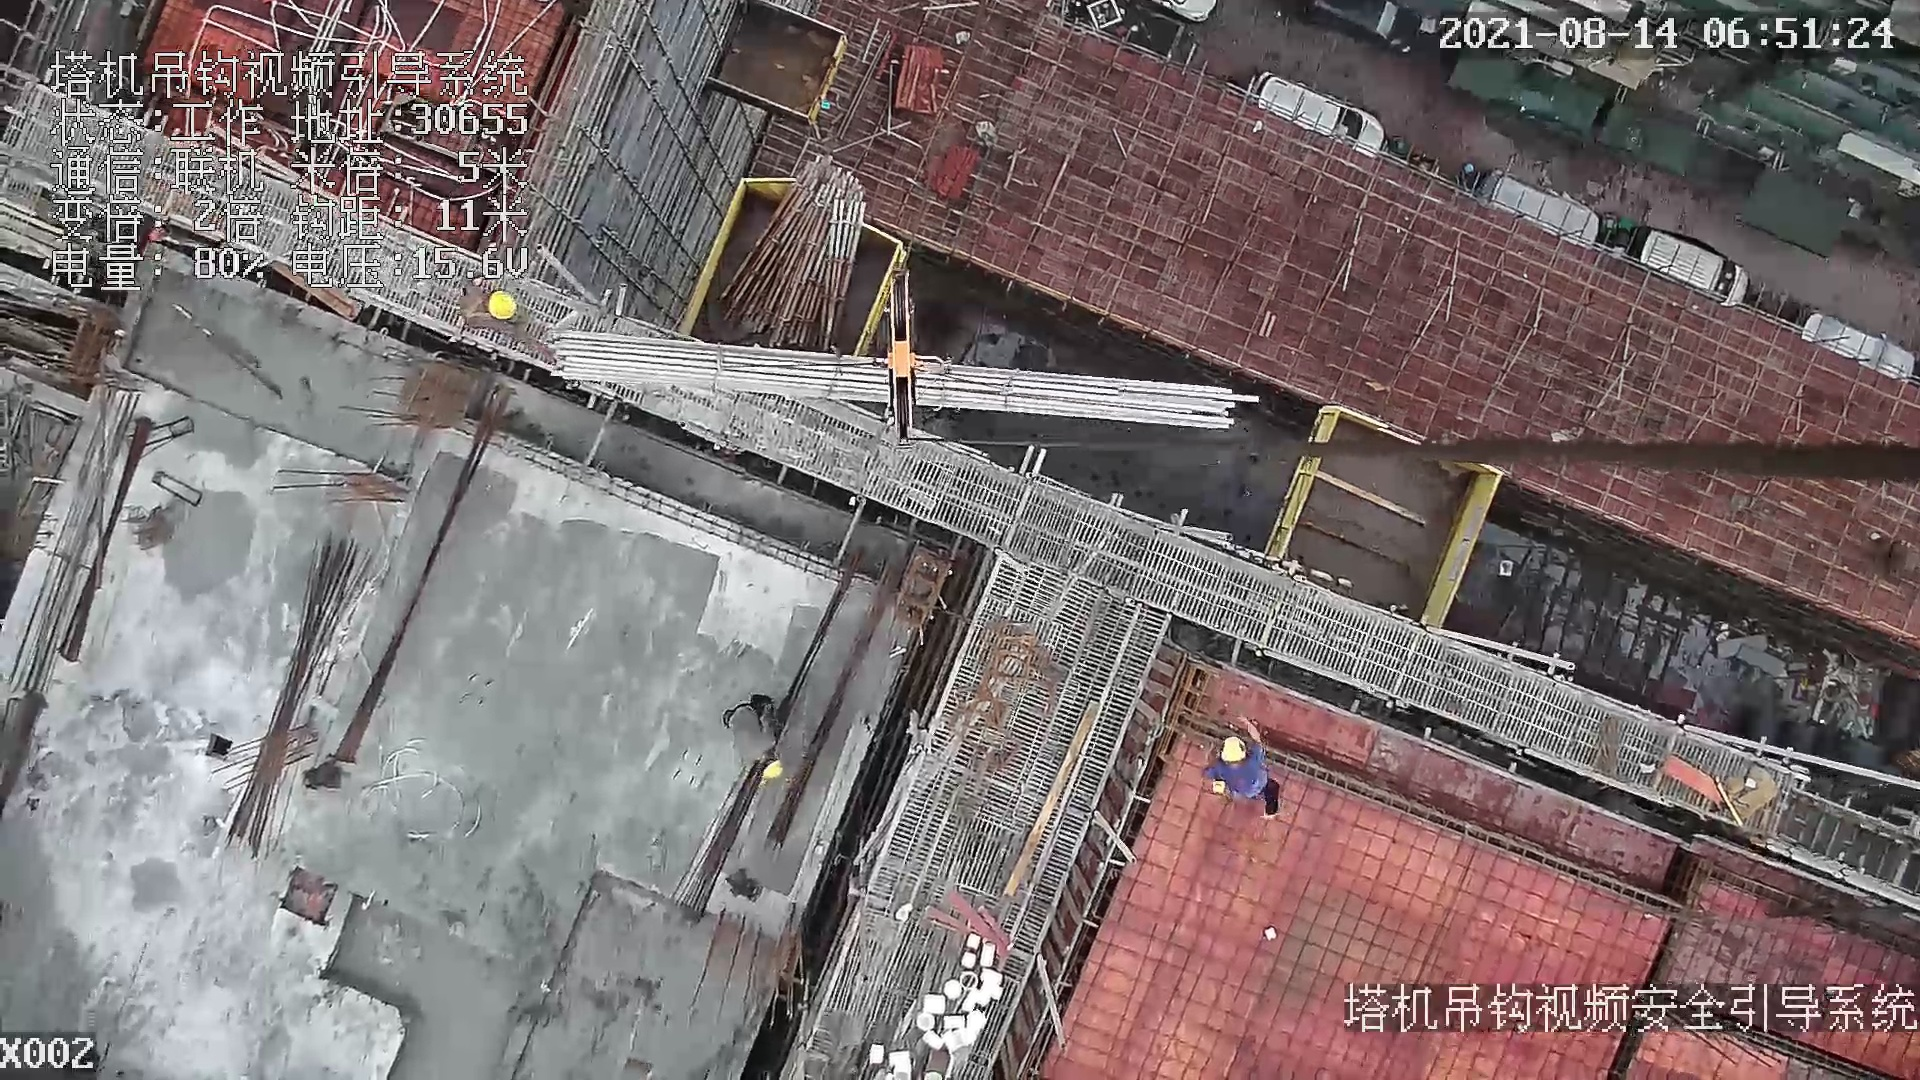helmet: (482, 291, 520, 318), (1217, 738, 1251, 762), (758, 760, 782, 779)
hook: (872, 265, 960, 442)
person: (1203, 712, 1286, 821), (451, 264, 532, 347), (726, 691, 792, 783)
rebar: (551, 329, 1261, 431), (208, 541, 377, 862)
scaffold: (716, 154, 865, 350)
